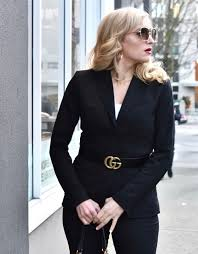F_W_suit jacket: (46, 68, 177, 181)
F_belt: (71, 148, 157, 172)
